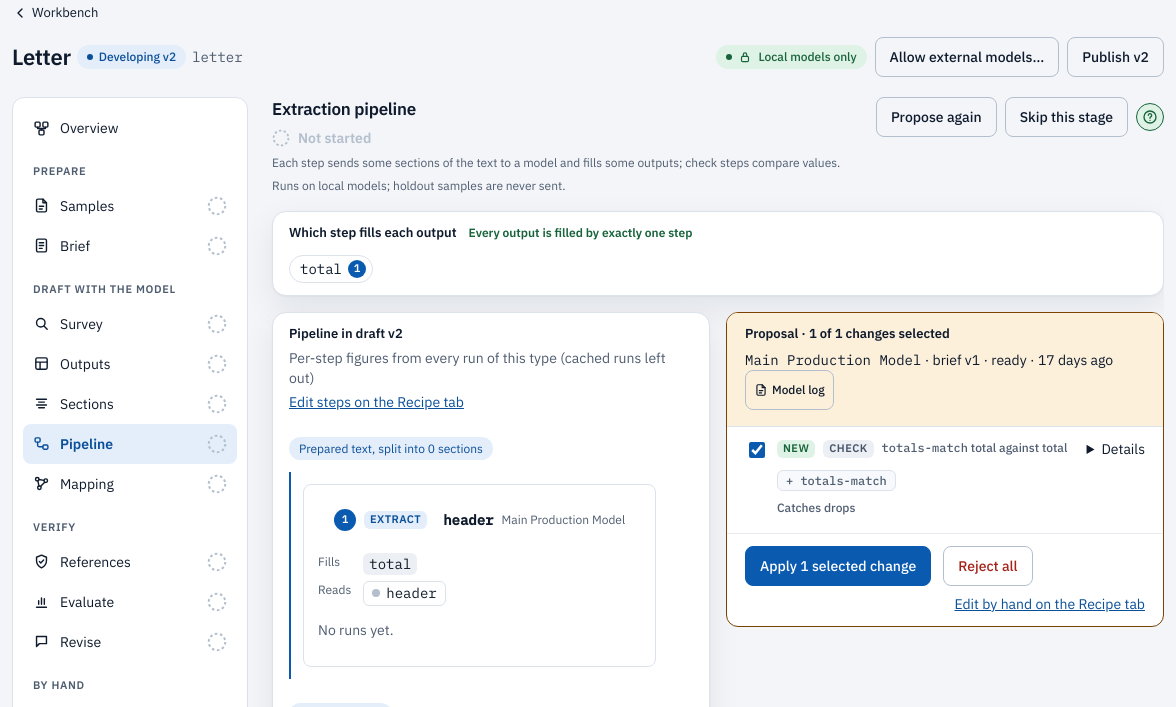
Test case: ProjectPage › keeps JUST ADDED on the Pipeline tab after applying a proposal refreshes the page
Click the button "Apply 1 selected change" at [838, 566], box [745, 546, 931, 586]
(page scrolled)
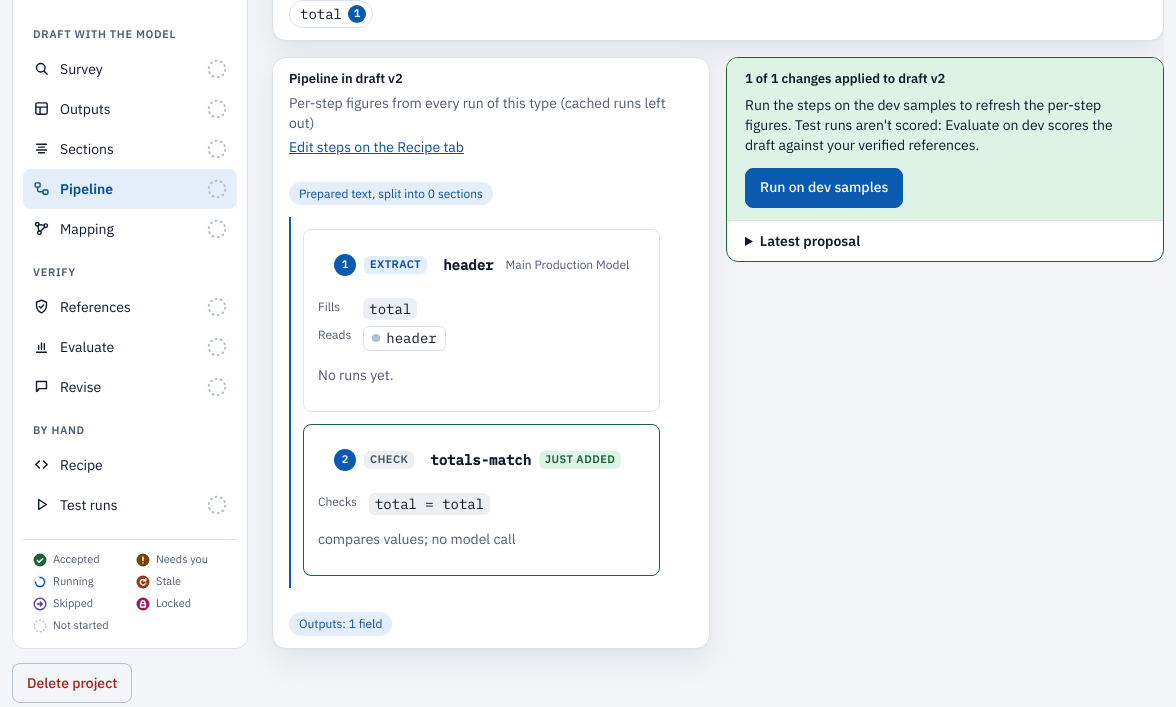
Expected: the text "JUST ADDED" is shown, [539, 451, 621, 469]
